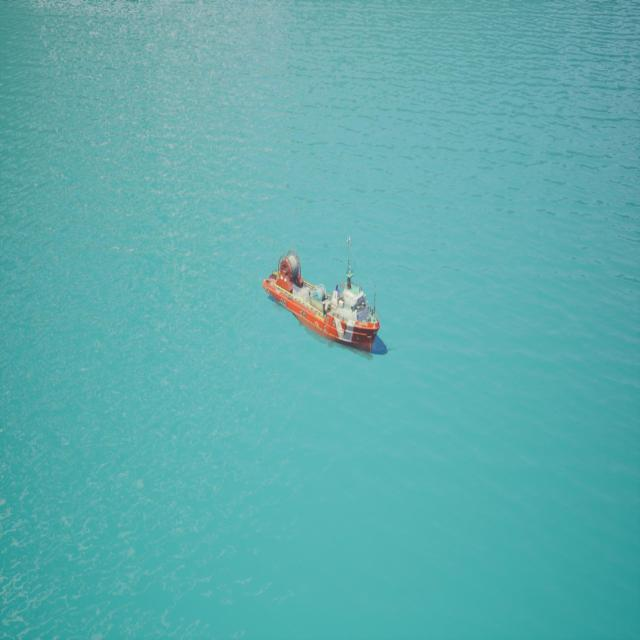tug boat: (264, 274, 387, 361)
